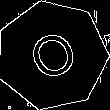O_SE: (22, 23, 83, 87)
